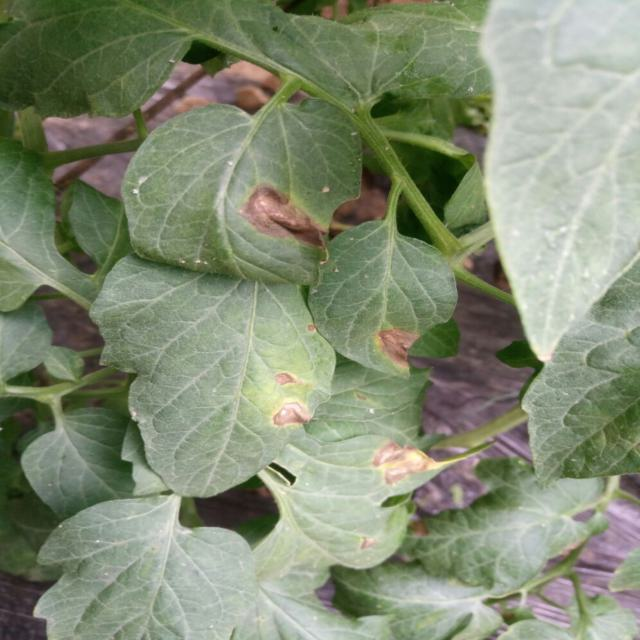Early_blight: (240, 180, 329, 252), (368, 436, 440, 489), (270, 370, 315, 428), (374, 323, 426, 373)
